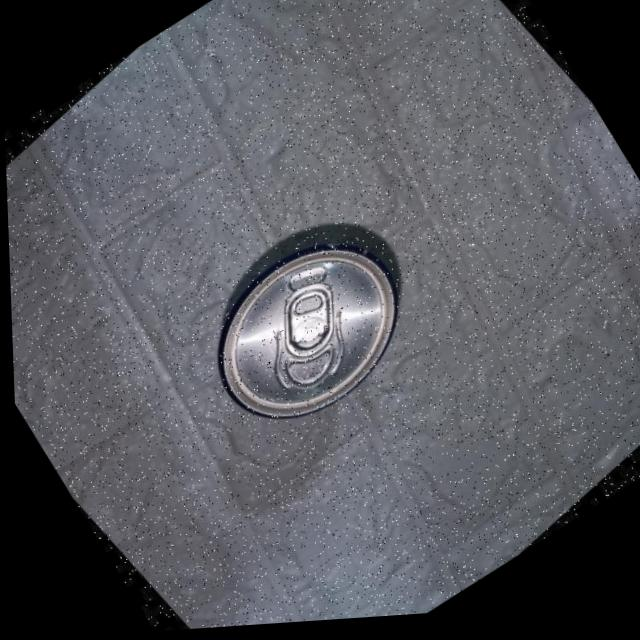metal: (220, 224, 399, 416)
